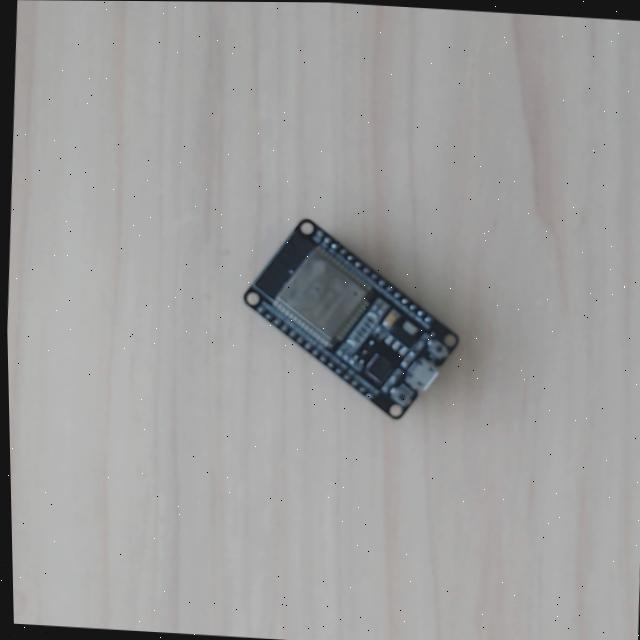ESP32-DevKit: (239, 217, 464, 425)
